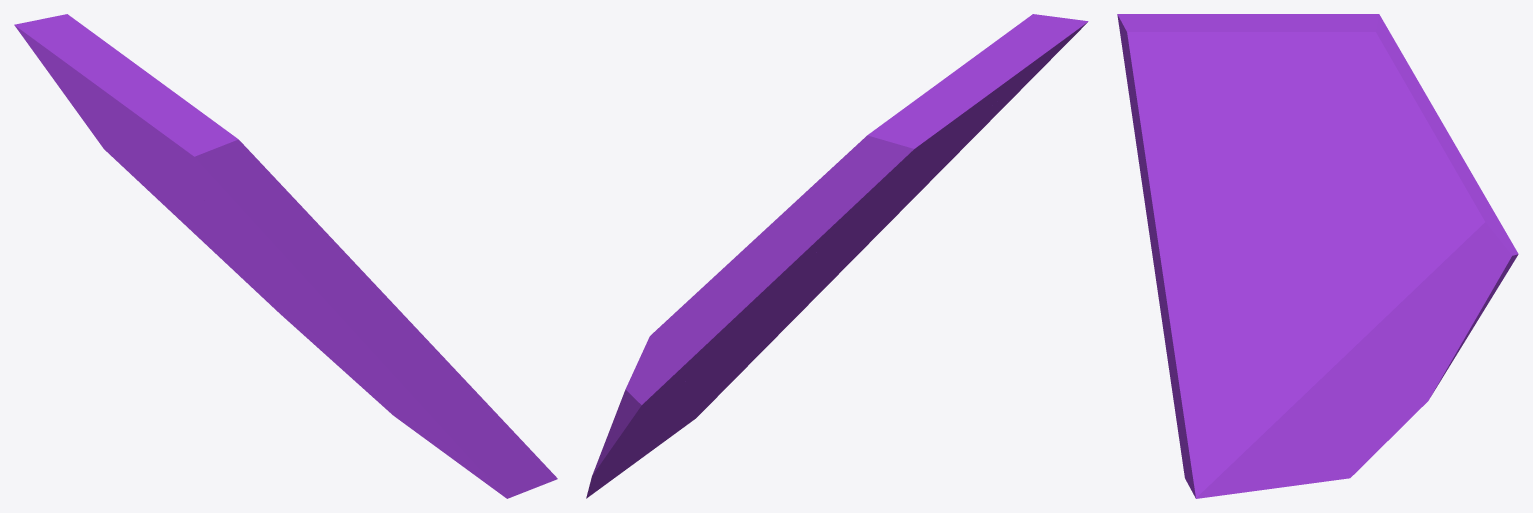
File: Window_121_2_chunks.fbx
The picture shows the model from 3 angles, left to right: view 1: azimuth 30°, elevation 25°; view 2: azimuth 150°, elevation 25°; view 3: azimuth 270°, elevation 25°; orthographic projection. The views are drawn at different scales.
Visible parts, largest first — view 1: Window_121_2_1, Window_121_2_3, Window_121_2_0, Window_121_2_12, Window_121_2_9, Window_121_2_2, Window_121_2_6, Window_121_2_8, Window_121_2_5, Window_121_2_10, Window_121_2_4; view 2: Window_121_2_8, Window_121_2_4, Window_121_2_12, Window_121_2_9, Window_121_2_1, Window_121_2_3, Window_121_2_0, Window_121_2_2, Window_121_2_6, Window_121_2_5, Window_121_2_10, Window_121_2_7; view 3: Window_121_2_1, Window_121_2_3, Window_121_2_4, Window_121_2_2, Window_121_2_6, Window_121_2_7, Window_121_2_8, Window_121_2_12, Window_121_2_5, Window_121_2_9, Window_121_2_0.
Part boxes in pixels (x1,y1,x2,y2): Window_121_2_1: (279,287,557,498); Window_121_2_3: (166,102,366,278); Window_121_2_0: (231,242,406,388); Window_121_2_12: (42,38,186,167); Window_121_2_9: (14,18,142,152); Window_121_2_2: (60,88,268,260); Window_121_2_6: (205,231,356,382); Window_121_2_8: (63,92,205,243); Window_121_2_5: (99,124,281,293); Window_121_2_10: (129,132,212,207); Window_121_2_4: (48,14,130,97); Window_121_2_8: (607,277,767,445); Window_121_2_4: (728,90,928,278); Window_121_2_12: (906,41,1060,149); Window_121_2_9: (789,116,941,269); Window_121_2_1: (586,292,820,498); Window_121_2_3: (859,14,1088,236); Window_121_2_0: (729,164,947,353); Window_121_2_2: (726,213,876,312); Window_121_2_6: (588,361,721,491); Window_121_2_5: (693,293,767,374); Window_121_2_10: (833,122,974,240); Window_121_2_7: (684,266,746,304); Window_121_2_1: (1157,230,1374,498); Window_121_2_3: (1117,14,1267,238); Window_121_2_4: (1233,25,1449,162); Window_121_2_2: (1226,136,1454,258); Window_121_2_6: (1343,277,1467,453); Window_121_2_7: (1371,150,1468,286); Window_121_2_8: (1433,143,1518,338); Window_121_2_12: (1159,14,1338,74); Window_121_2_5: (1333,220,1376,287); Window_121_2_9: (1332,14,1440,119); Window_121_2_0: (1141,181,1182,328).
Size of the model in its own units: 719 by 763 by 824.
